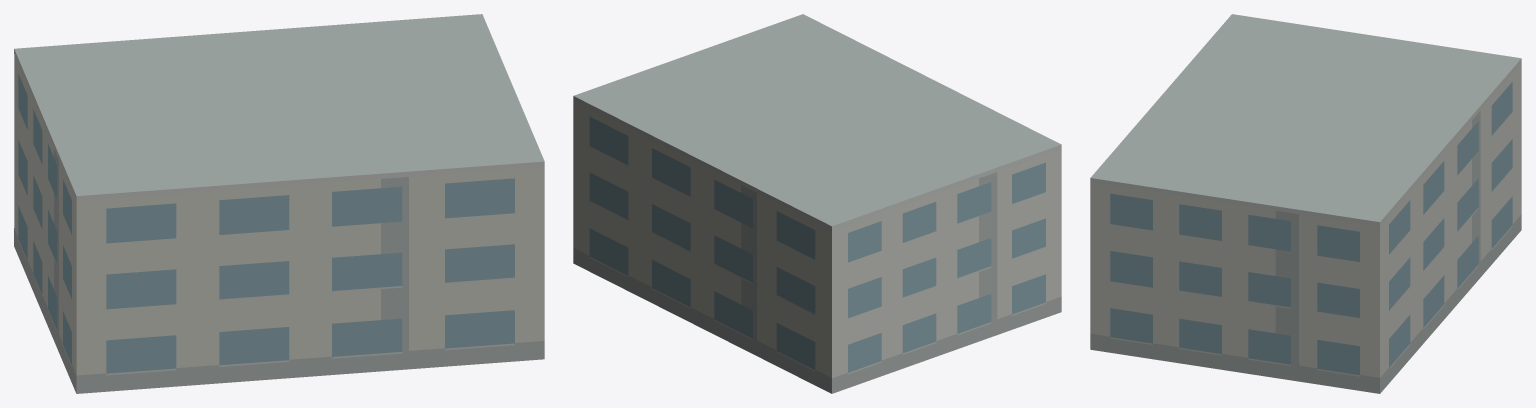
File: survey-upis-32892405.glb
The picture shows the model from 3 angles, left to right: view 1: azimuth 30°, elevation 25°; view 2: azimuth 150°, elevation 25°; view 3: azimuth 270°, elevation 25°; orthographic projection. The views are drawn at different scales.
Parts seen in each view (by area): view 1: survey-upis-32892405.tmp; view 2: survey-upis-32892405.tmp; view 3: survey-upis-32892405.tmp.
Part boxes in pixels (x1=…): survey-upis-32892405.tmp: x1=14, y1=14, x2=544, y2=393; survey-upis-32892405.tmp: x1=573, y1=14, x2=1061, y2=393; survey-upis-32892405.tmp: x1=1090, y1=14, x2=1521, y2=393.
Size of the model in its own units: 23.79 by 9.15 by 20.83.
